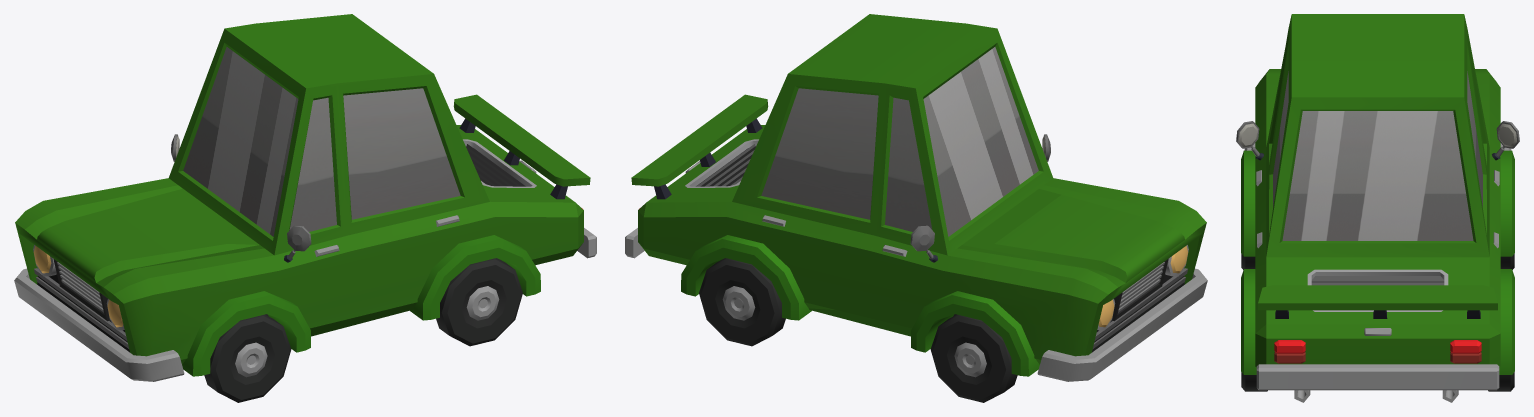
Rendered from Car_6_I.gltf.
3 renders of one model, left to right at view 1: azimuth 30°, elevation 25°; view 2: azimuth 150°, elevation 25°; view 3: azimuth 270°, elevation 25°, orthographic. The views are drawn at different scales.
Parts seen in each view (by area): view 1: Car_6_I, RL, FL; view 2: Car_6_I, RR, FR; view 3: Car_6_I, RL, RR.
Part boxes in pixels (x1=…): Car_6_I: x1=14, y1=14, x2=596, y2=381; RL: x1=436, y1=258, x2=522, y2=346; FL: x1=204, y1=314, x2=291, y2=402; Car_6_I: x1=625, y1=14, x2=1207, y2=381; RR: x1=699, y1=258, x2=785, y2=346; FR: x1=930, y1=314, x2=1017, y2=402; Car_6_I: x1=1236, y1=14, x2=1519, y2=402; RL: x1=1241, y1=372, x2=1267, y2=391; RR: x1=1488, y1=372, x2=1514, y2=391.
Size of the model in its own units: 3.1 by 1.72 by 1.51.
4 materials, 4 textured.
